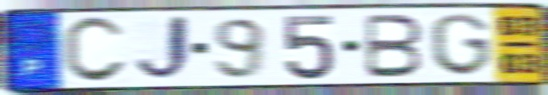5: (279, 12, 336, 81)
9: (211, 16, 268, 80)
B: (362, 12, 426, 79)
C: (60, 15, 130, 87)
G: (427, 12, 495, 78)
J: (131, 13, 194, 85)
